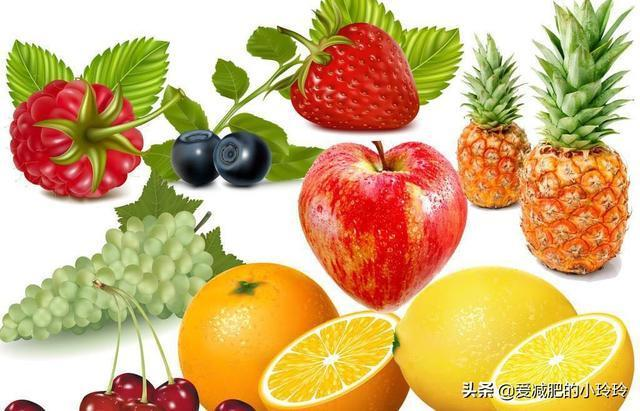apple: (296, 139, 467, 317)
